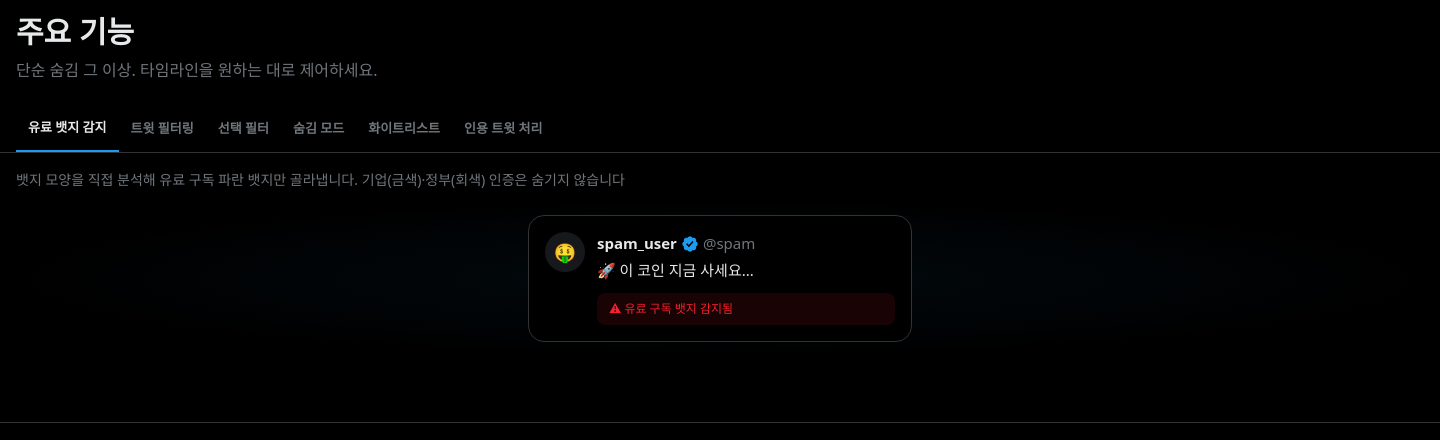
Test: Features › 화이트리스트 탭은 접힌 트윗에서 바로 추가하는 기능이 접어서 표시 모드 전용임을 알린다
Click the button "화이트리스트" at (404, 129), box [356,106,452,152]
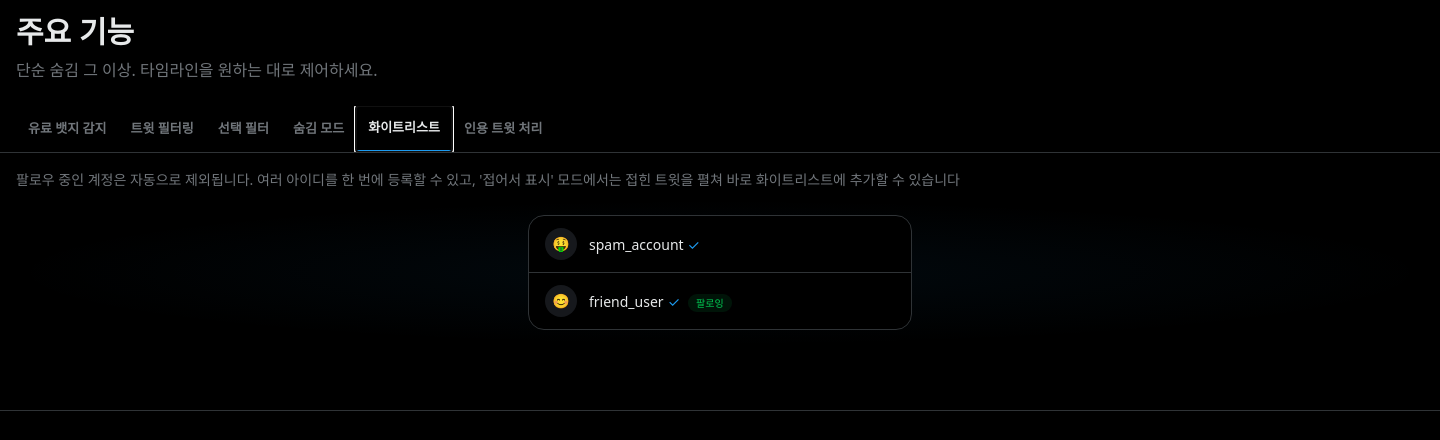
expect the text "'접어서 표시' 모드에서는 접힌 트윗을 펼쳐" is shown: met, box [16,170,960,188]
